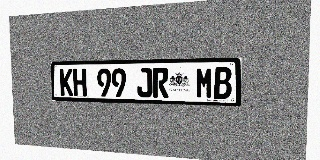9: (111, 68, 126, 97), (97, 68, 111, 97)
B: (213, 67, 232, 99)
H: (73, 69, 87, 96)
J: (137, 68, 152, 97)
K: (59, 69, 73, 96)
M: (196, 67, 213, 99)
R: (153, 68, 168, 98)
